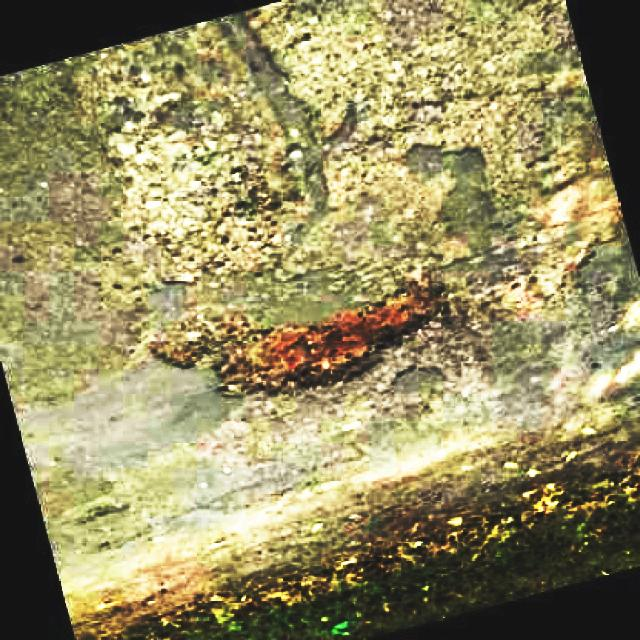pothole: (146, 278, 457, 397), (126, 145, 312, 277)
